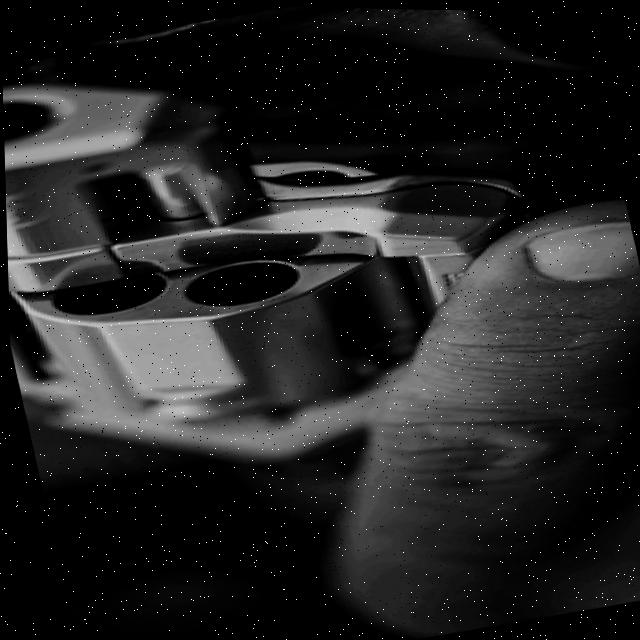pistol: (0, 0, 640, 561)
